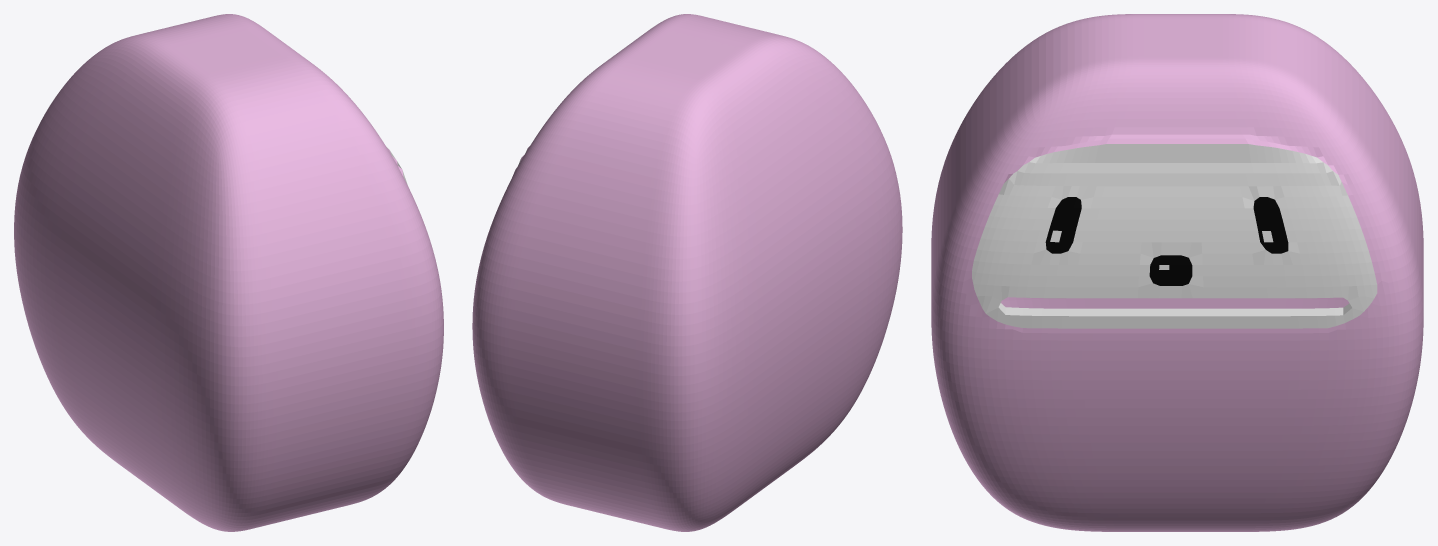
File: OsnovaPlisanaFlip.fbx
3 renders of one model, left to right at view 1: azimuth 30°, elevation 25°; view 2: azimuth 150°, elevation 25°; view 3: azimuth 270°, elevation 25°, orthographic. The views are drawn at different scales.
Parts seen in each view (by area): view 1: Cube.004; view 2: Cube.004; view 3: Cube.004, Cube.087.
Boxes of the visible parts, x1,y1,x2,y2 form: Cube.004: [14, 14, 443, 531]; Cube.004: [472, 14, 902, 531]; Cube.004: [931, 14, 1423, 531]; Cube.087: [1001, 297, 1349, 308].
Bounding box in the file's own units: 0.7963 × 1.32 × 1.27.
